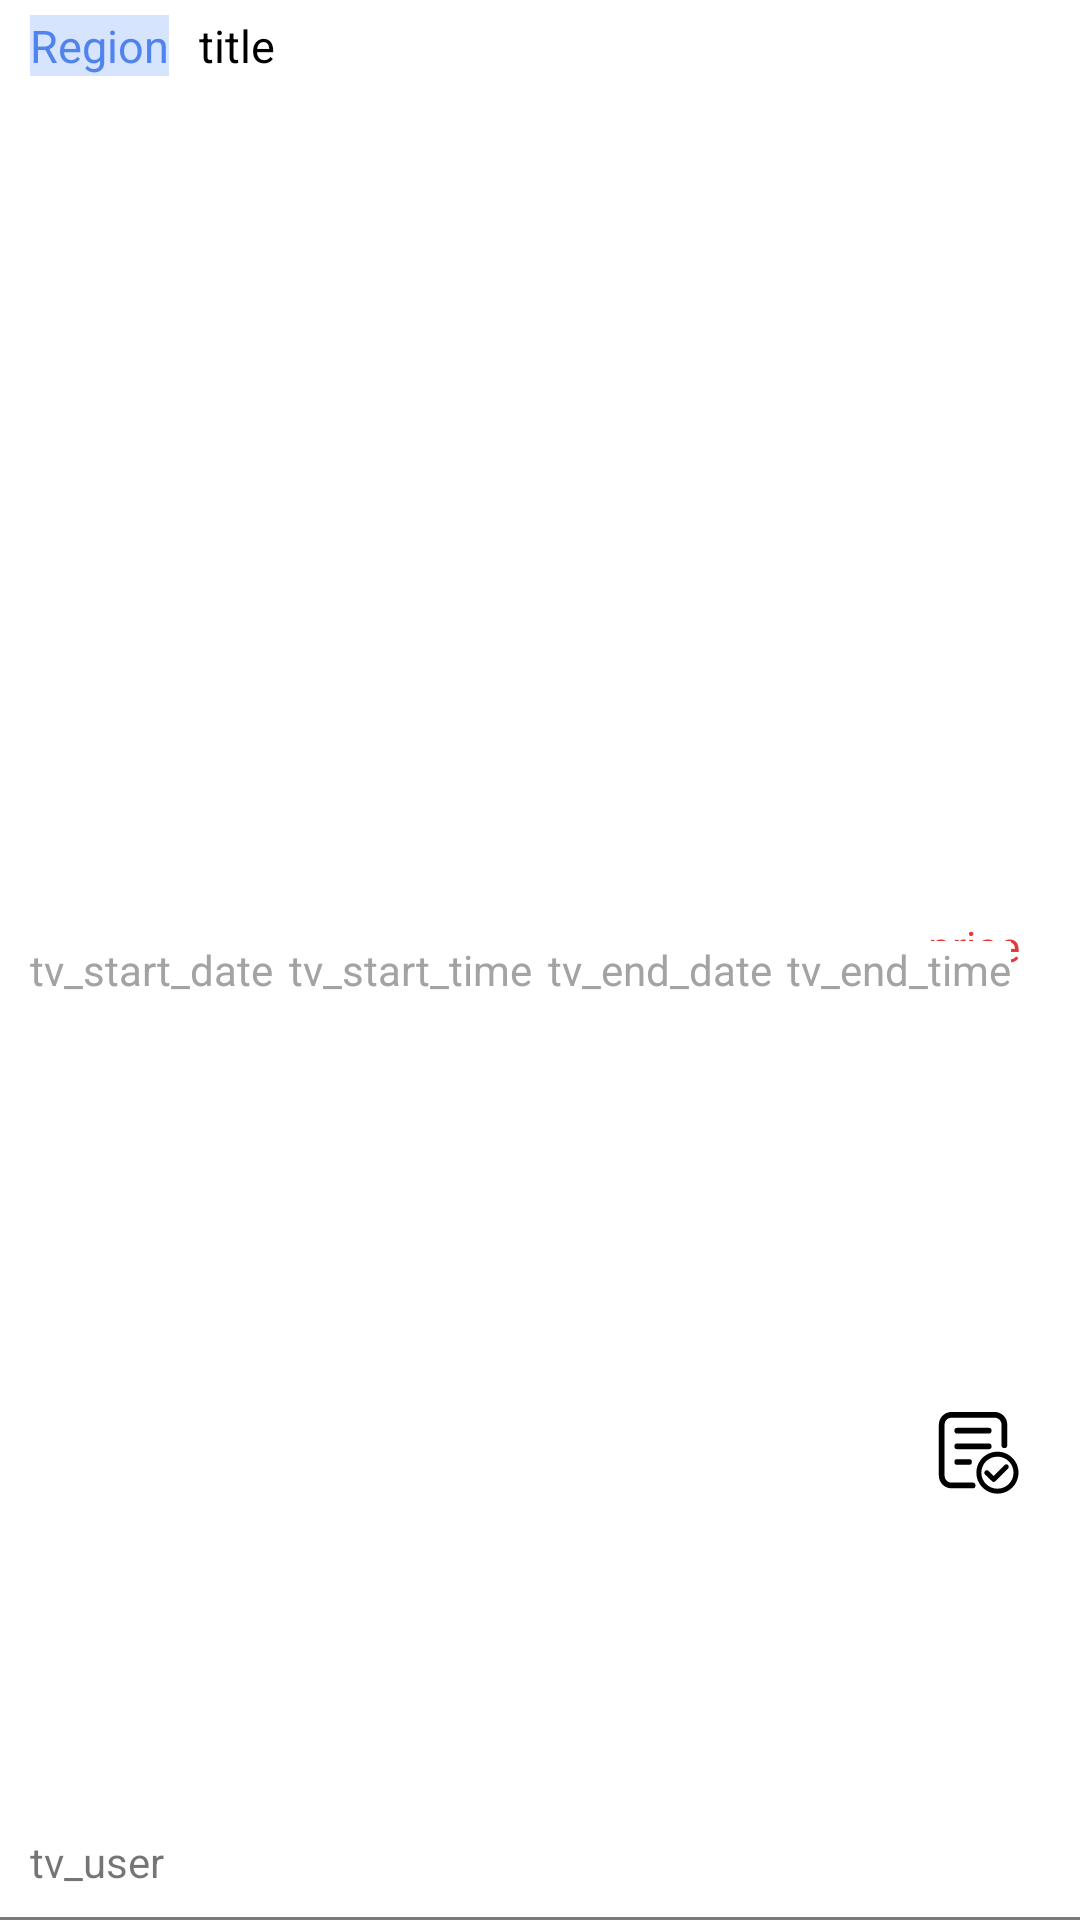

Locate icon controls on the screen. Image size 1080px×1920px, boxes as (x1, y1, x2, y2).
take order: (938, 1412, 1019, 1494)
